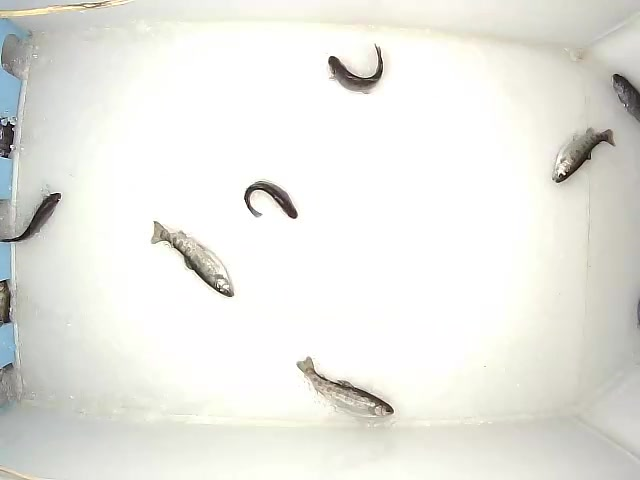fish: (150, 219, 235, 298), (295, 356, 395, 418), (551, 127, 617, 184), (326, 42, 385, 95), (1, 192, 62, 243), (243, 179, 299, 220)
